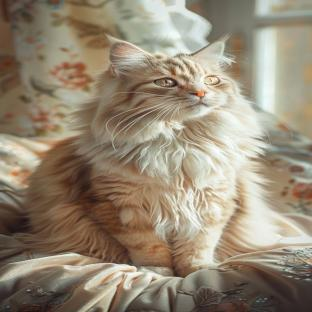Animal: (20, 37, 279, 277)
